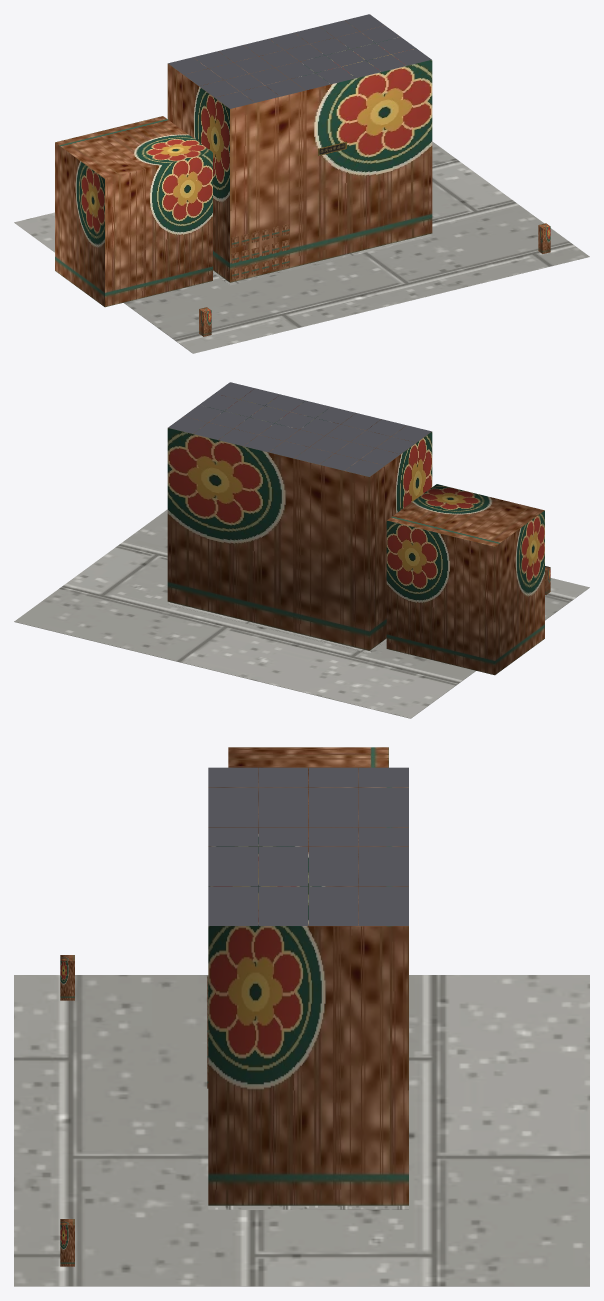
3 renders of one model, top to bottom at view 1: azimuth 30°, elevation 25°; view 2: azimuth 150°, elevation 25°; view 3: azimuth 270°, elevation 25°, orthographic. The views are drawn at different scales.
Visible parts, largest first — view 1: 11680_01_06351_026_02_L2__body, 11680_01_06351_026_01_L2__base, 11680_01_06351_026_03_L2__roof, 11680_01_06351_026_05_L2__openings, 11680_01_06351_026_06_L2__green; view 2: 11680_01_06351_026_02_L2__body, 11680_01_06351_026_01_L2__base, 11680_01_06351_026_03_L2__roof; view 3: 11680_01_06351_026_01_L2__base, 11680_01_06351_026_02_L2__body, 11680_01_06351_026_03_L2__roof, 11680_01_06351_026_06_L2__green.
Part boxes in pixels (x1,y1,x2,y2): 11680_01_06351_026_02_L2__body: [55, 21, 432, 307]; 11680_01_06351_026_01_L2__base: [14, 141, 589, 353]; 11680_01_06351_026_03_L2__roof: [168, 14, 431, 108]; 11680_01_06351_026_05_L2__openings: [231, 224, 289, 279]; 11680_01_06351_026_06_L2__green: [199, 223, 550, 336]; 11680_01_06351_026_02_L2__body: [167, 389, 544, 675]; 11680_01_06351_026_01_L2__base: [14, 509, 589, 718]; 11680_01_06351_026_03_L2__roof: [168, 382, 431, 476]; 11680_01_06351_026_01_L2__base: [14, 975, 589, 1286]; 11680_01_06351_026_02_L2__body: [208, 747, 408, 1205]; 11680_01_06351_026_03_L2__roof: [208, 767, 408, 925]; 11680_01_06351_026_06_L2__green: [60, 955, 74, 1266].
Bounding box in the file's own units: 116 × 46.82 × 86.
Materials: 5 (5 with a texture image).
